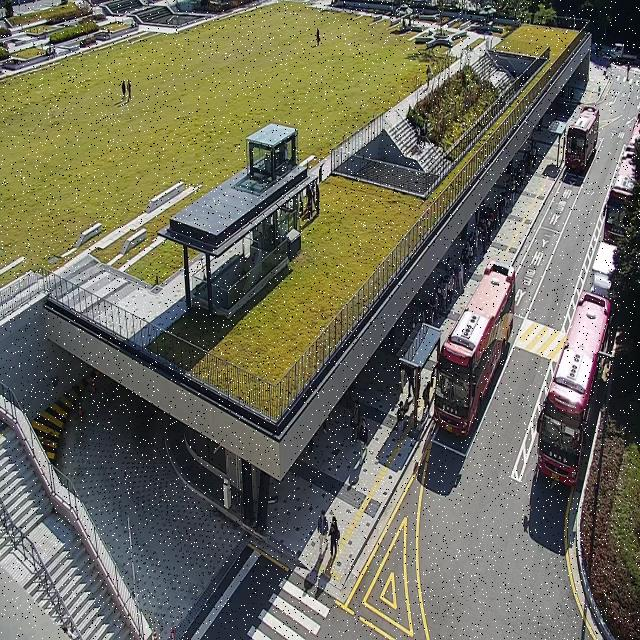queue: (412, 138, 538, 437)
